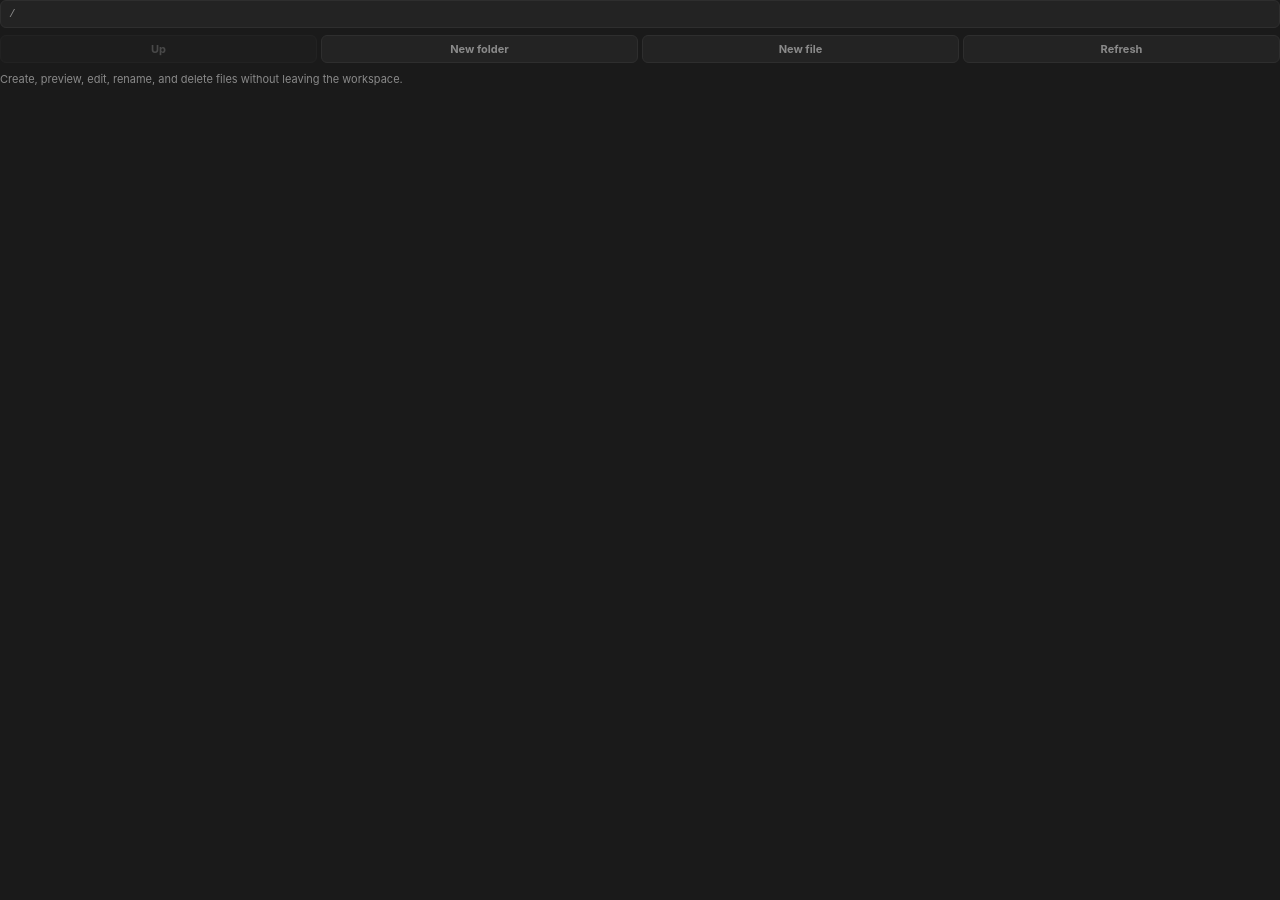
Test: WorkspaceFilePanel - Error Handling Properties › Property 8: Successful operations clear previous errors › should clear error when createFolder succeeds after failure
Click the button "New folder" at (480, 49), box 321,35 -> 638,63
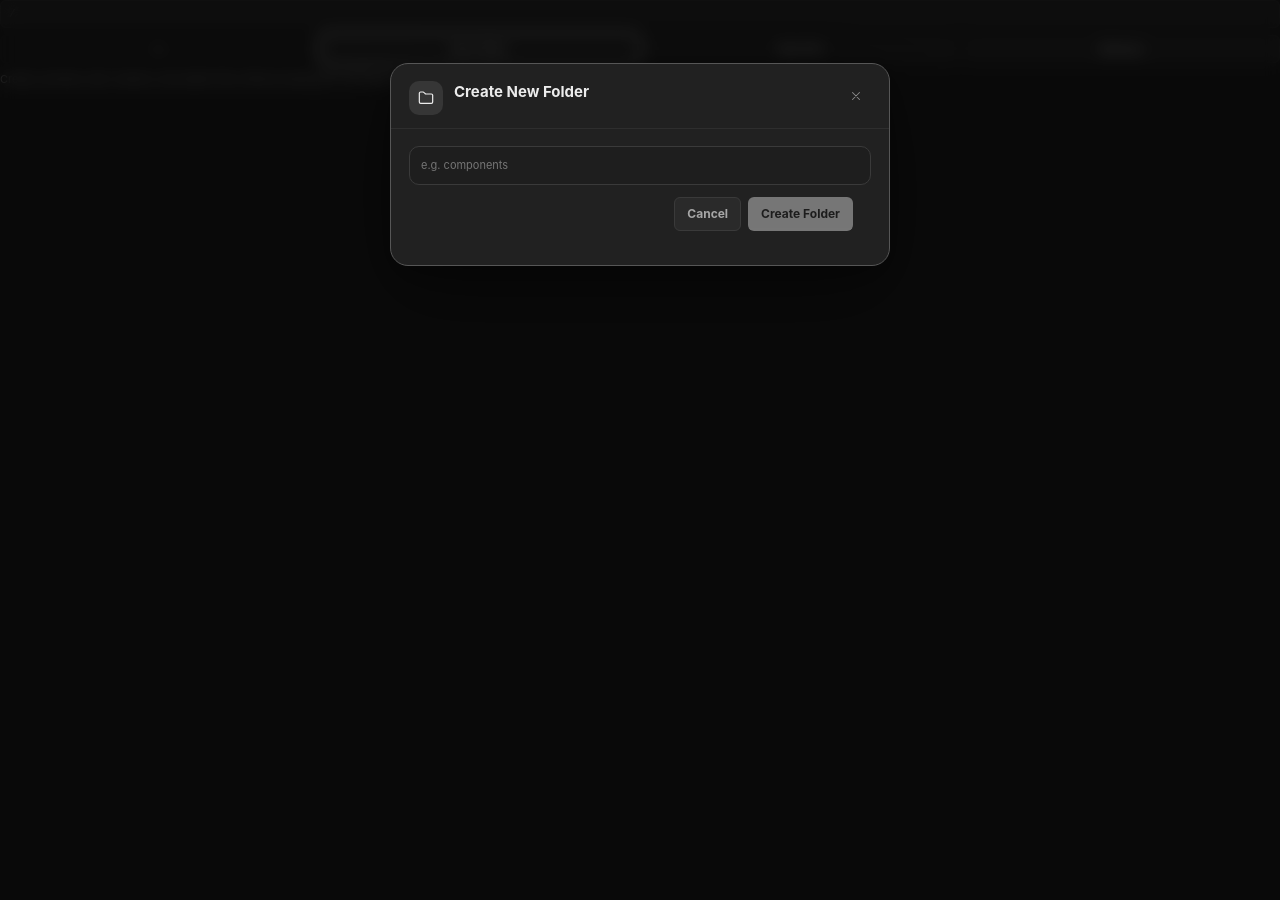
Type "badfolder" into the field at (640, 166), box 409,146 -> 871,185
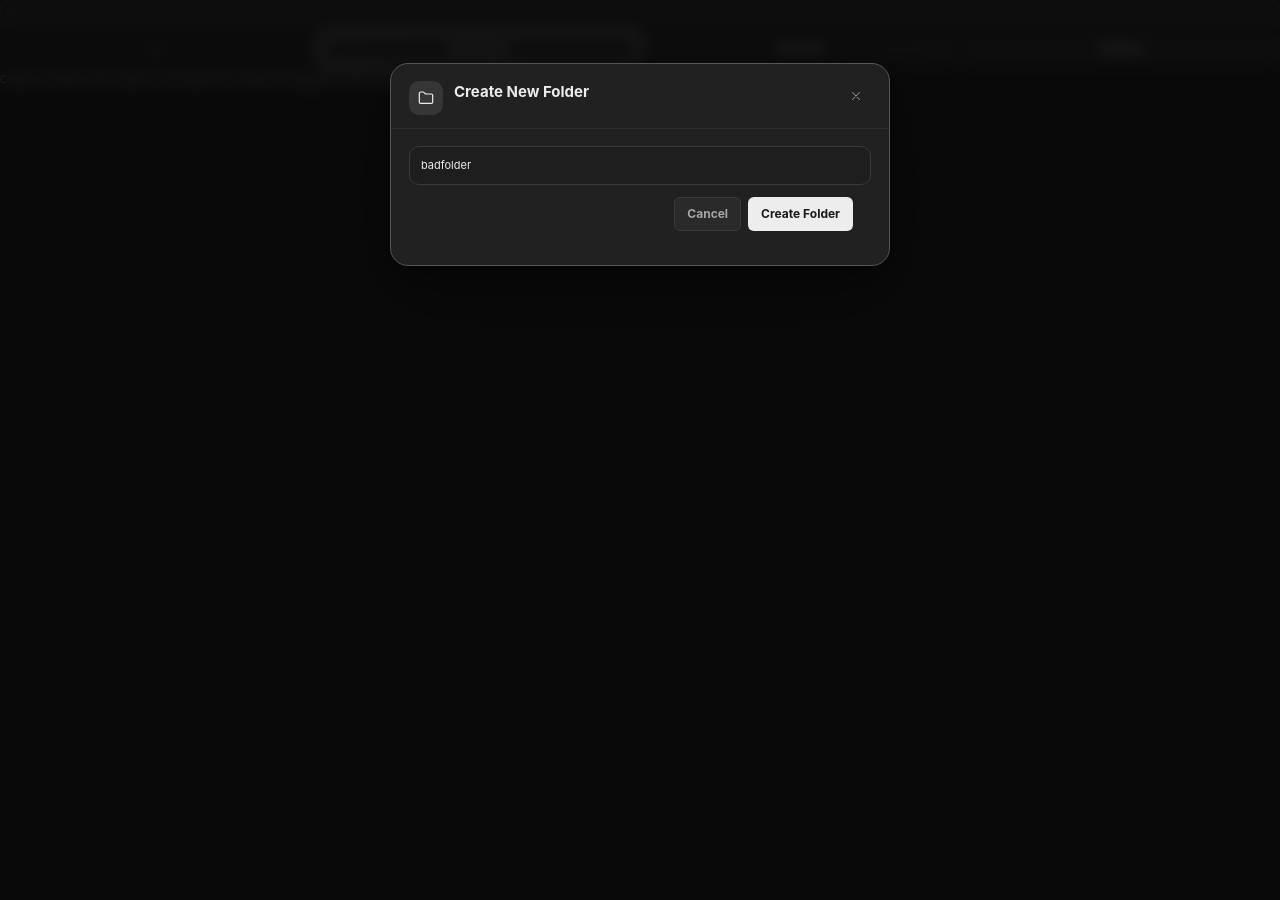
Click the button "Create Folder" at (801, 214), box 748,197 -> 853,231
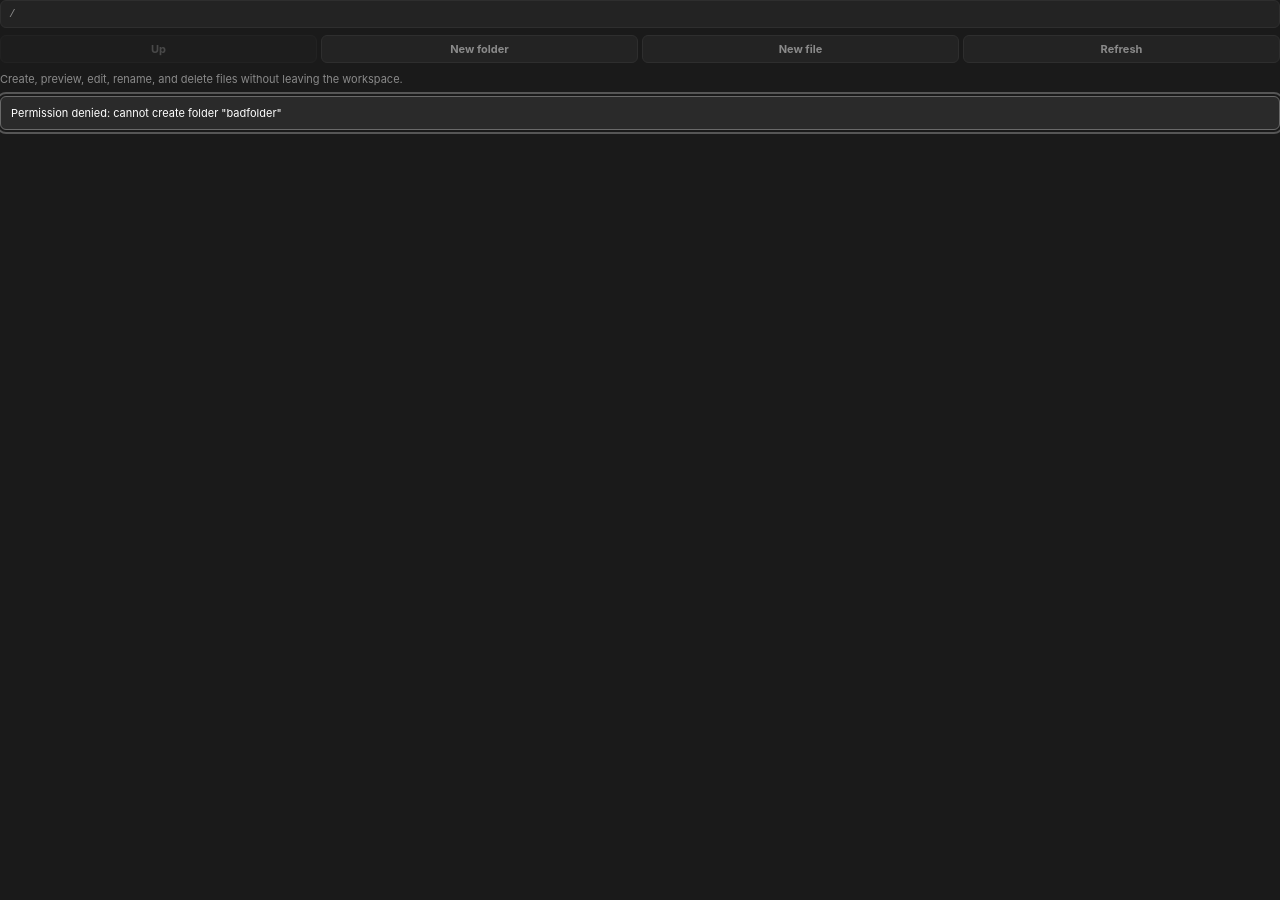
expect the text "Permission denied: cannot create folder \"badfolder\"" is shown: met, box 0,96 -> 1279,130
Click the button "New folder" at (480, 49), box 321,35 -> 638,63
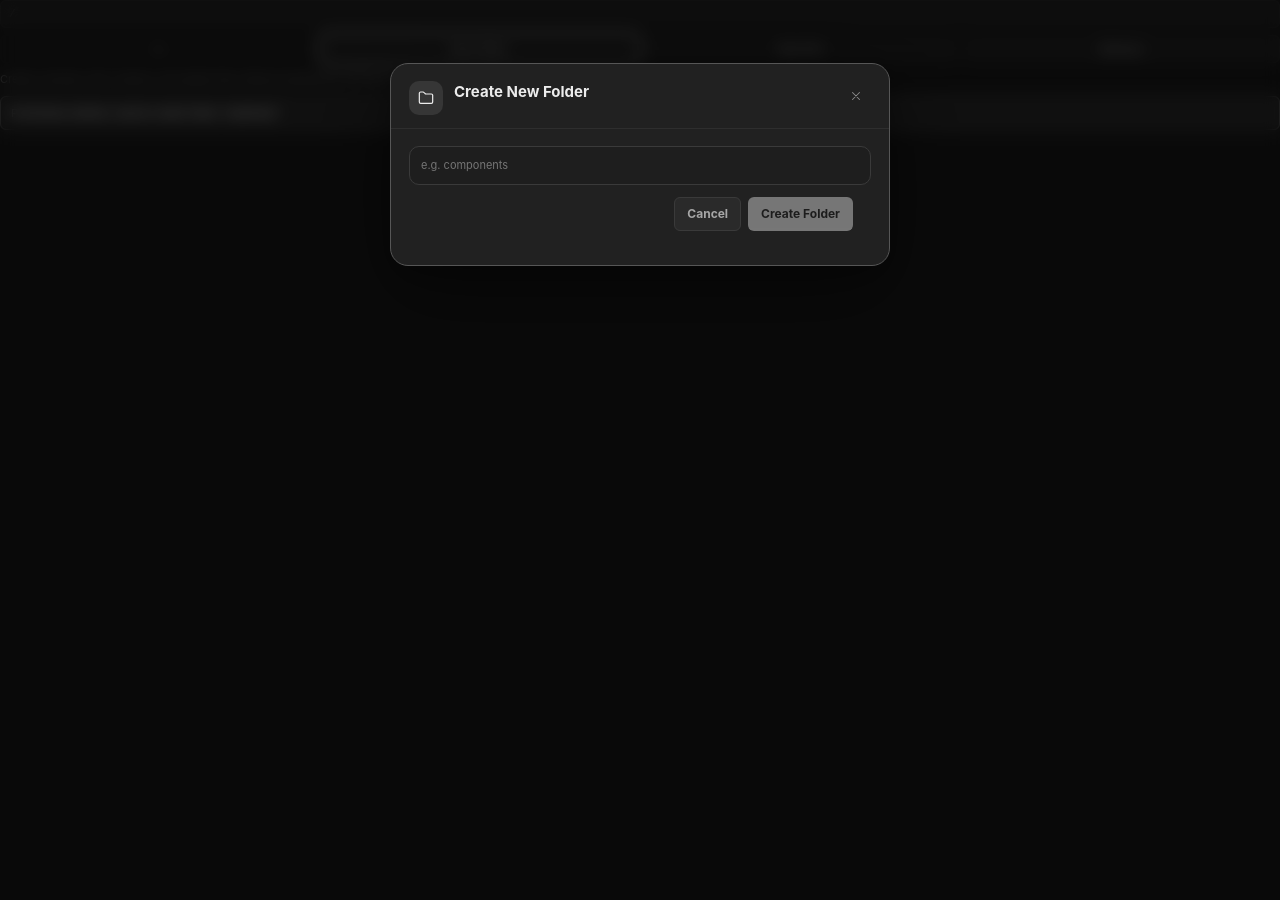
Type "goodfolder" into the field at (640, 166), box 409,146 -> 871,185
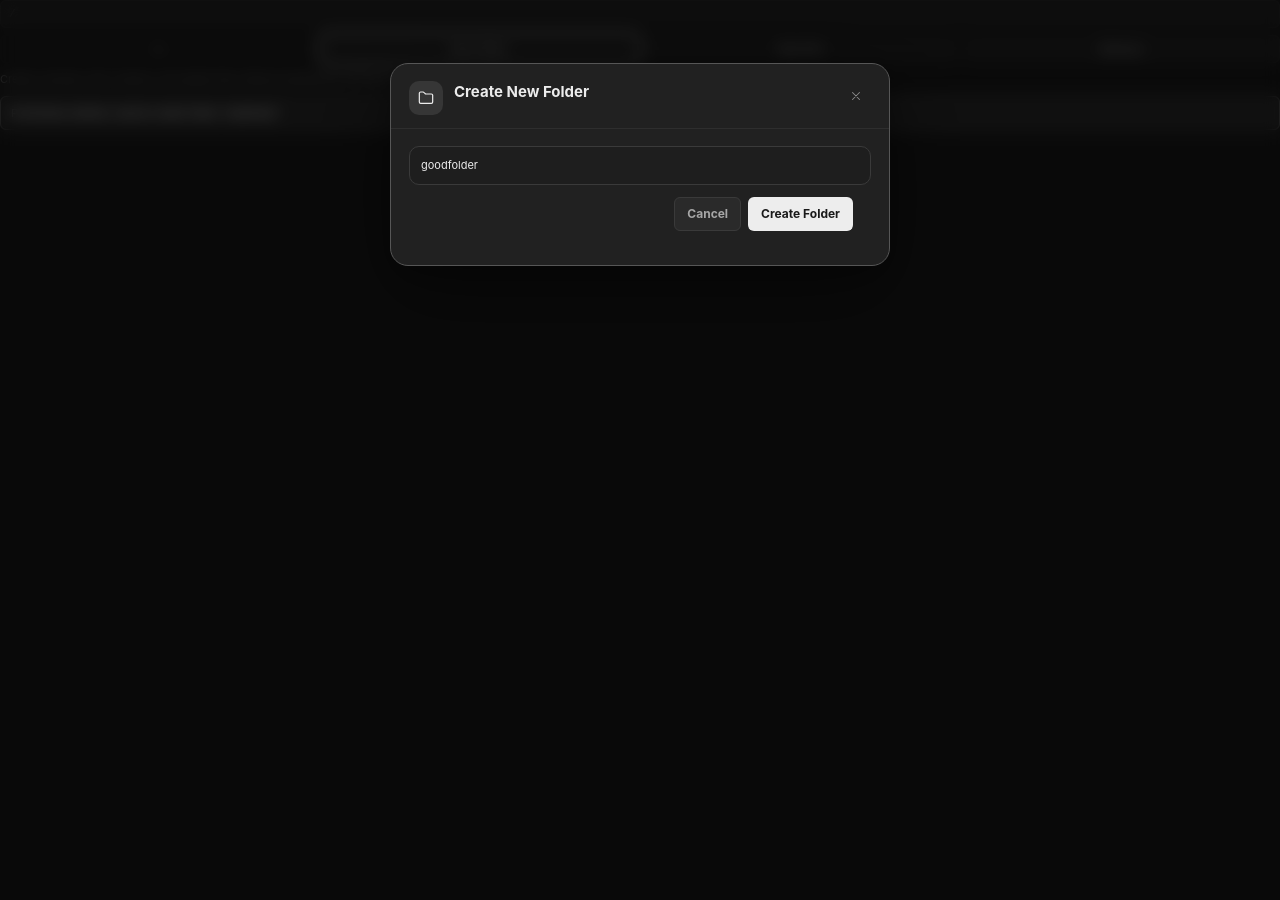
Click the button "Create Folder" at (801, 214), box 748,197 -> 853,231
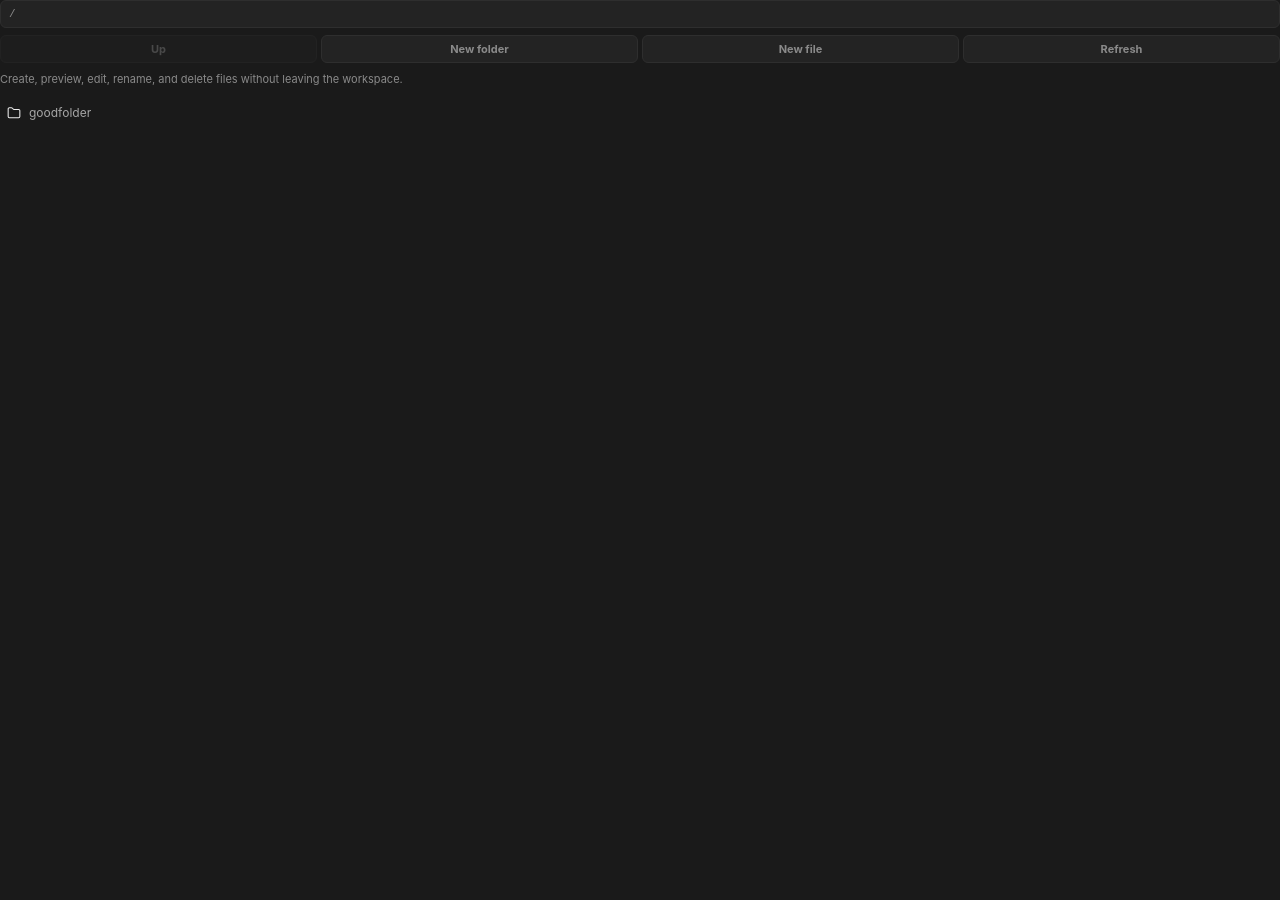
expect the text "Permission denied" is gone: met
expect the text "goodfolder" is shown: met, box 29,105 -> 91,120
